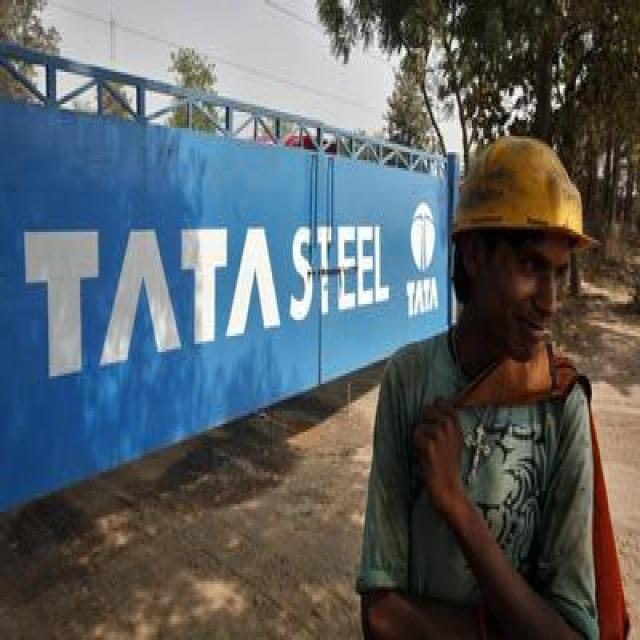helmet: (432, 147, 602, 484)
